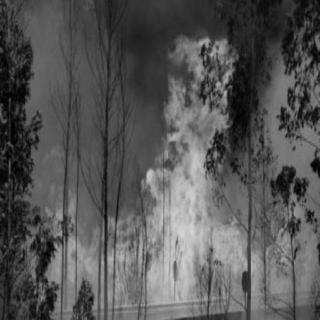Fire: (36, 21, 316, 297)
